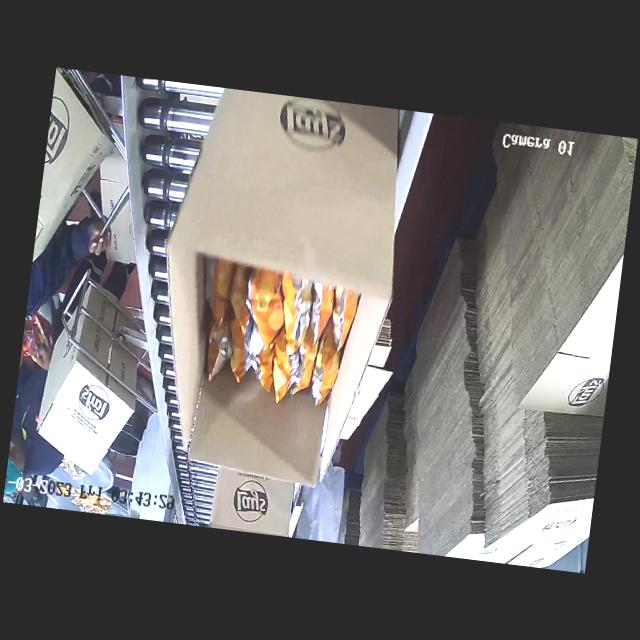cheese: (199, 238, 360, 400)
